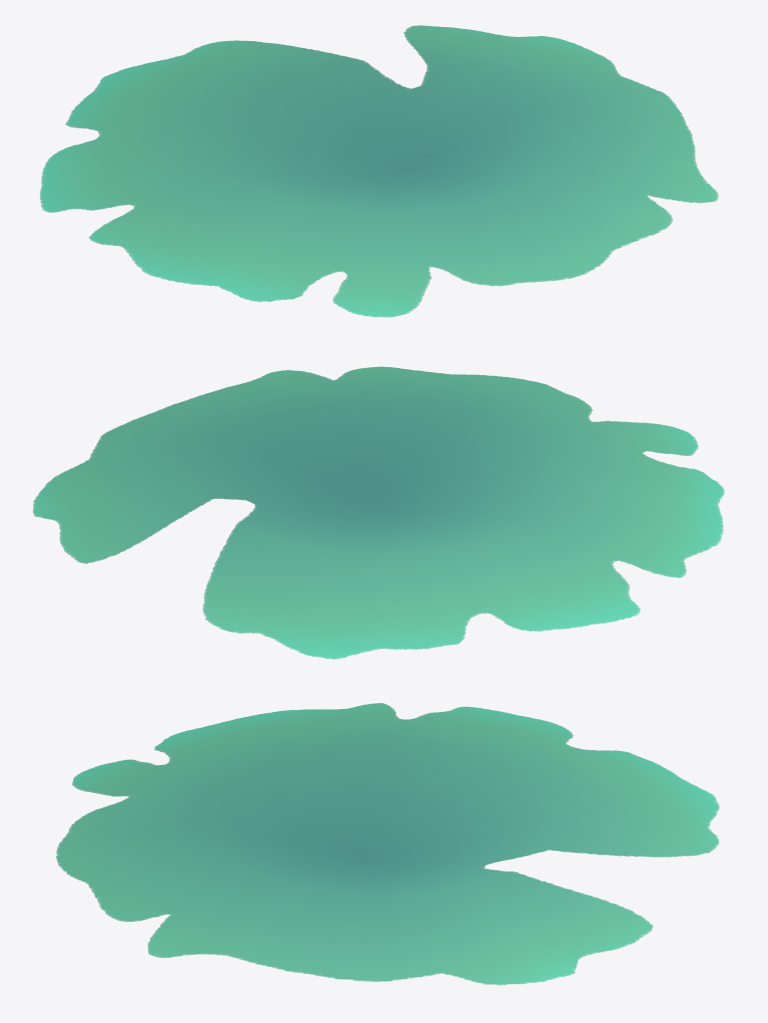
The model's file is SM_Sw_Nenuphar_08.fbx.
3 renders of one model, top to bottom at view 1: azimuth 30°, elevation 25°; view 2: azimuth 150°, elevation 25°; view 3: azimuth 270°, elevation 25°, orthographic.
Visible parts, largest first — view 1: SM_Sw_Nenuphar_08; view 2: SM_Sw_Nenuphar_08; view 3: SM_Sw_Nenuphar_08.
Boxes of the visible parts, x1,y1,x2,y2 form: SM_Sw_Nenuphar_08: (39, 25, 718, 317); SM_Sw_Nenuphar_08: (32, 366, 724, 659); SM_Sw_Nenuphar_08: (56, 703, 719, 985).
Bounding box in the file's own units: 23.13 × 1.15 × 23.13.
